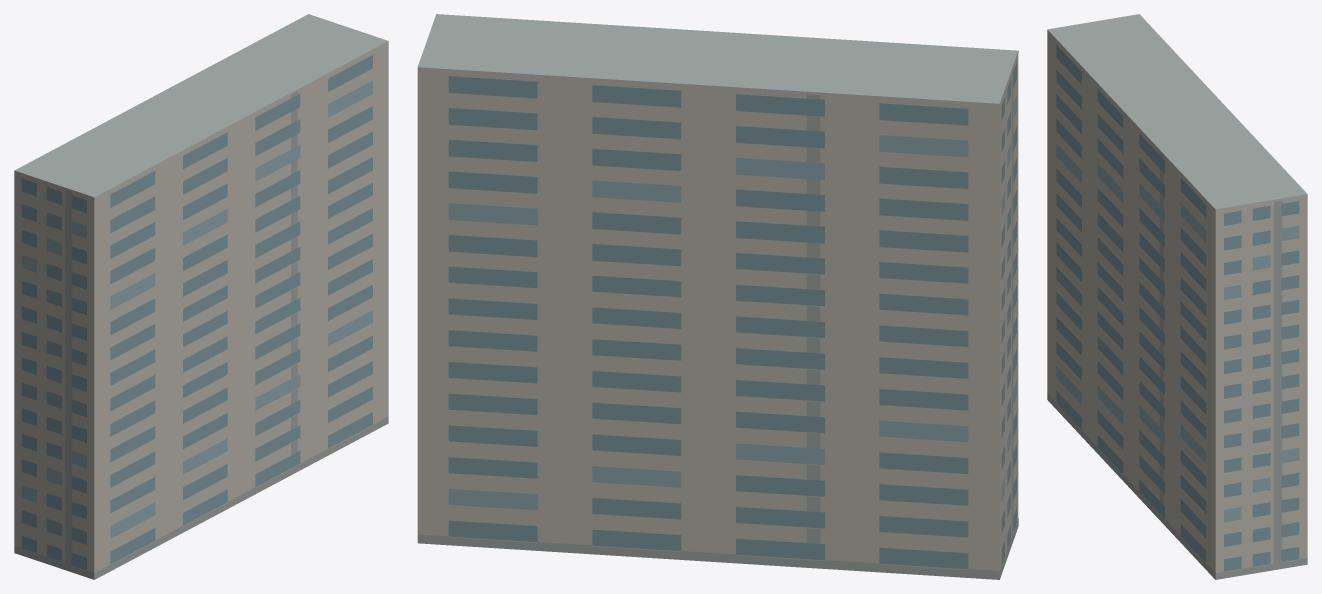
File: residential-7aa16678-cf7b-4a15-9fb7-f2d0e2f3080a.glb
3 views of the same model, side by side, from view 1: azimuth 30°, elevation 25°; view 2: azimuth 150°, elevation 25°; view 3: azimuth 270°, elevation 25° (orthographic). The views are drawn at different scales.
Parts seen in each view (by area): view 1: residential-7aa16678-cf7b-4a15-9fb7-f2d0e2f3080a.tmp; view 2: residential-7aa16678-cf7b-4a15-9fb7-f2d0e2f3080a.tmp; view 3: residential-7aa16678-cf7b-4a15-9fb7-f2d0e2f3080a.tmp.
Part boxes in pixels (x1=…): residential-7aa16678-cf7b-4a15-9fb7-f2d0e2f3080a.tmp: x1=14, y1=14, x2=388, y2=579; residential-7aa16678-cf7b-4a15-9fb7-f2d0e2f3080a.tmp: x1=417, y1=14, x2=1018, y2=579; residential-7aa16678-cf7b-4a15-9fb7-f2d0e2f3080a.tmp: x1=1047, y1=14, x2=1307, y2=579.
Size of the model in its own units: 51.75 by 45.75 by 29.13.
